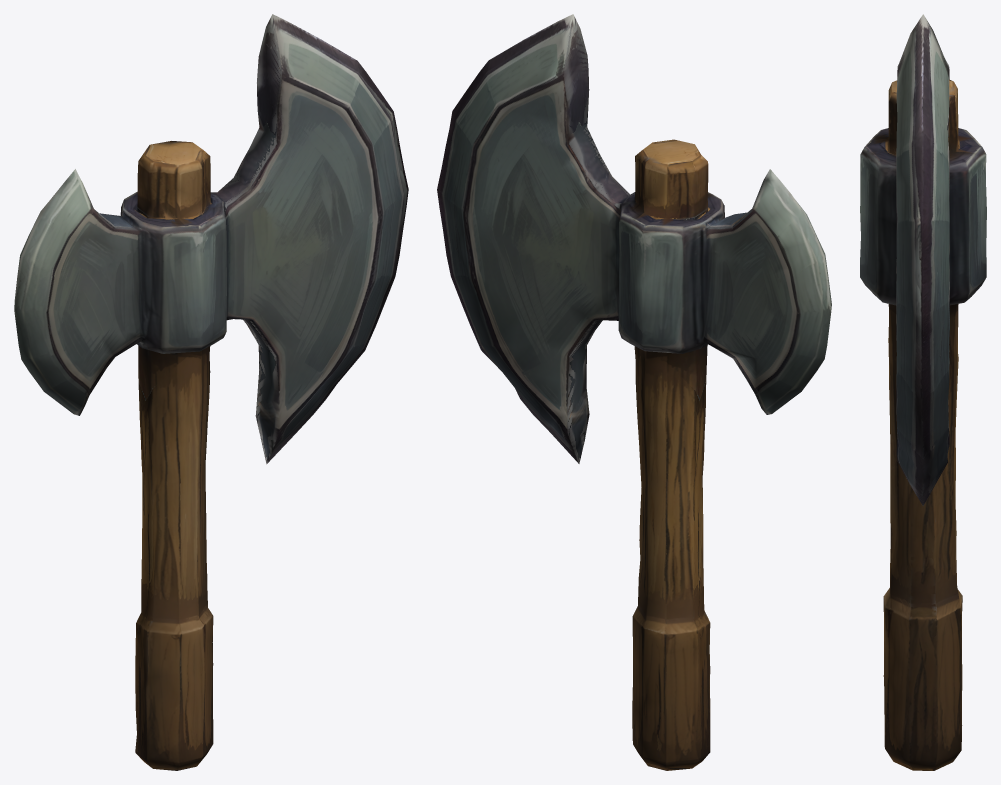
Rendered from Prop_Weapon_BattleAxe.fbx.
3 renders of one model, left to right at view 1: azimuth 30°, elevation 25°; view 2: azimuth 150°, elevation 25°; view 3: azimuth 270°, elevation 25°, orthographic. The views are drawn at different scales.
Visible parts, largest first — view 1: texture_mapping; view 2: texture_mapping; view 3: texture_mapping.
Part boxes in pixels (x1,y1,x2,y2): texture_mapping: (14,14,408,770); texture_mapping: (437,14,831,770); texture_mapping: (860,14,986,770).
Size of the model in its own units: 0.573 by 0.1447 by 1.
Materials: 1 (1 with a texture image).
